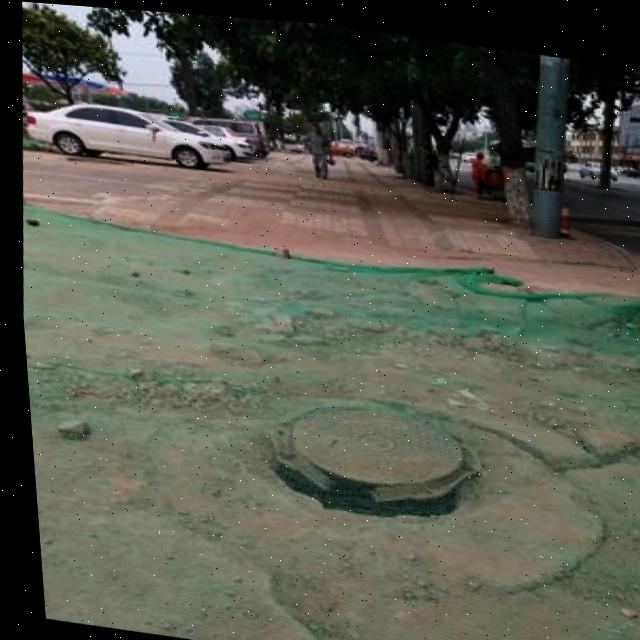manhole: (223, 372, 485, 530)
